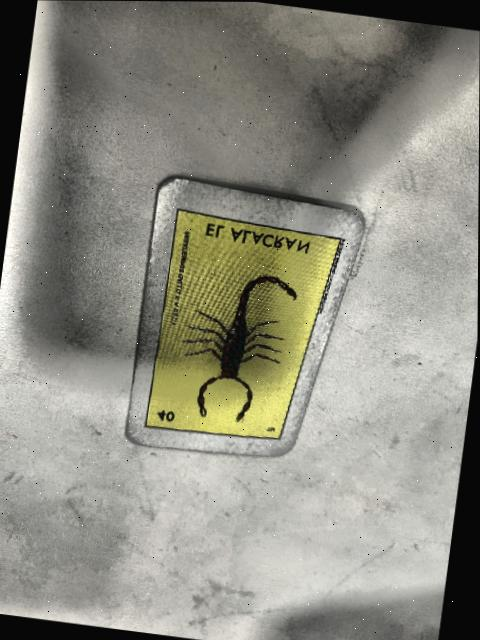El Alacran: (147, 210, 340, 438)
